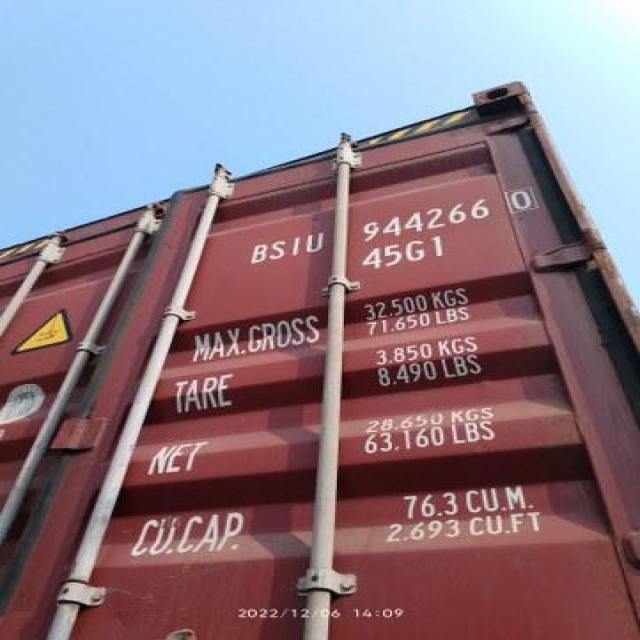ISO: (370, 236, 448, 263)
container_number: (245, 182, 542, 264)
